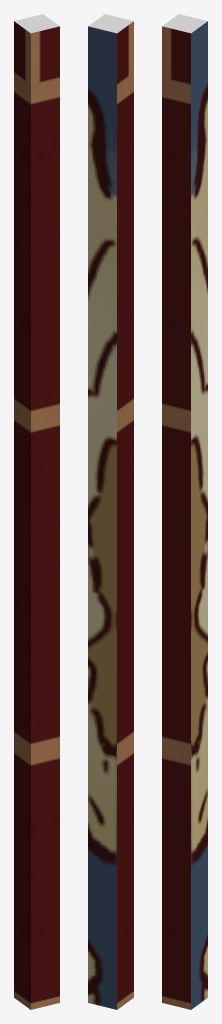
File: WallStub.fbx
3 views of the same model, side by side, from view 1: azimuth 30°, elevation 25°; view 2: azimuth 150°, elevation 25°; view 3: azimuth 330°, elevation 25° (orthographic).
Visible parts, largest first — view 1: wall_stub; view 2: wall_stub; view 3: wall_stub.
Part boxes in pixels (x1,y1,x2,y2): wall_stub: [14, 14, 59, 1009]; wall_stub: [88, 14, 133, 1009]; wall_stub: [162, 14, 207, 1009].
Size of the model in its own units: 18.75 by 600 by 18.75.
